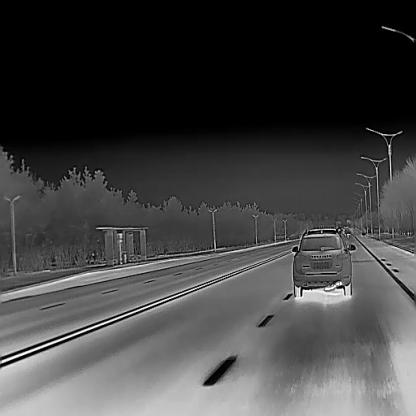car: (291, 226, 356, 297), (343, 228, 351, 236)
